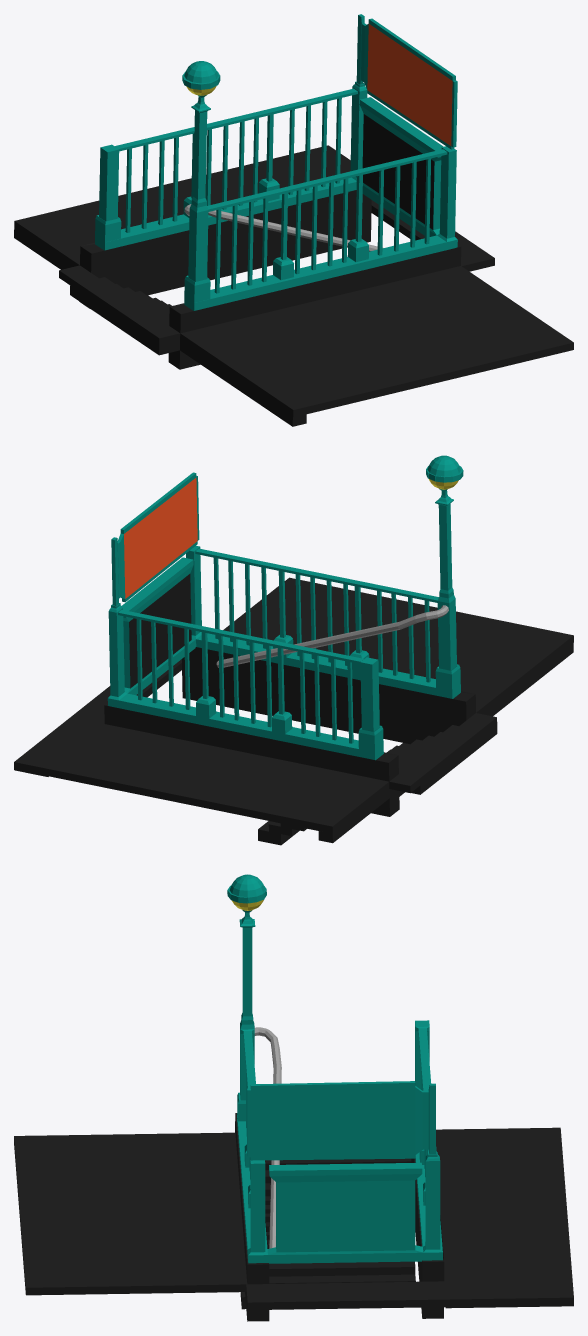
The model's file is Subway.fbx.
3 renders of one model, top to bottom at view 1: azimuth 30°, elevation 25°; view 2: azimuth 150°, elevation 25°; view 3: azimuth 270°, elevation 25°, orthographic. The views are drawn at different scales.
Parts seen in each view (by area): view 1: group_1426599882; view 2: group_1426599882; view 3: group_1426599882.
Boxes of the visible parts, x1,y1,x2,y2 form: group_1426599882: (14,14,573,426); group_1426599882: (14,455,573,845); group_1426599882: (14,874,573,1321).
Size of the model in its own units: 86.13 by 85.51 by 116.
